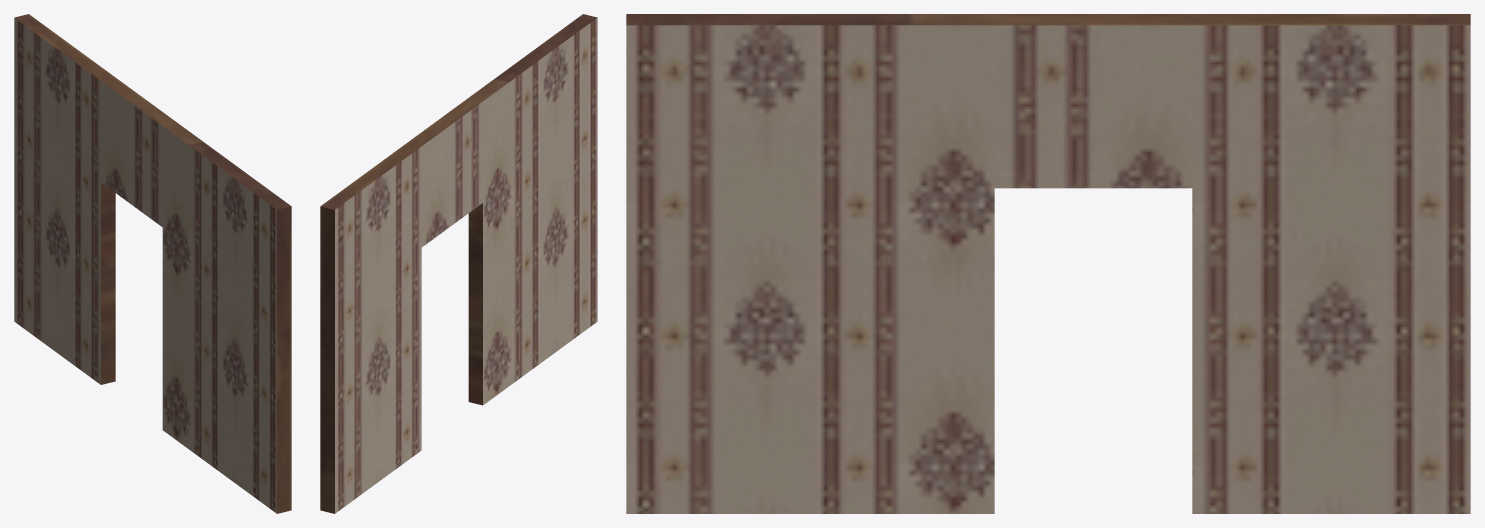
File: wall4.dae
3 renders of one model, left to right at view 1: azimuth 30°, elevation 25°; view 2: azimuth 150°, elevation 25°; view 3: azimuth 270°, elevation 25°, orthographic. The views are drawn at different scales.
Visible parts, largest first — view 1: Plane.006; view 2: Plane.006; view 3: Plane.006.
Boxes of the visible parts, bbox=[...] form: Plane.006: bbox=[14, 14, 291, 513]; Plane.006: bbox=[320, 14, 597, 513]; Plane.006: bbox=[626, 14, 1470, 513].
Bounding box in the file's own units: 0.15 × 4.7 × 3.
Materials: 1 (1 with a texture image).
